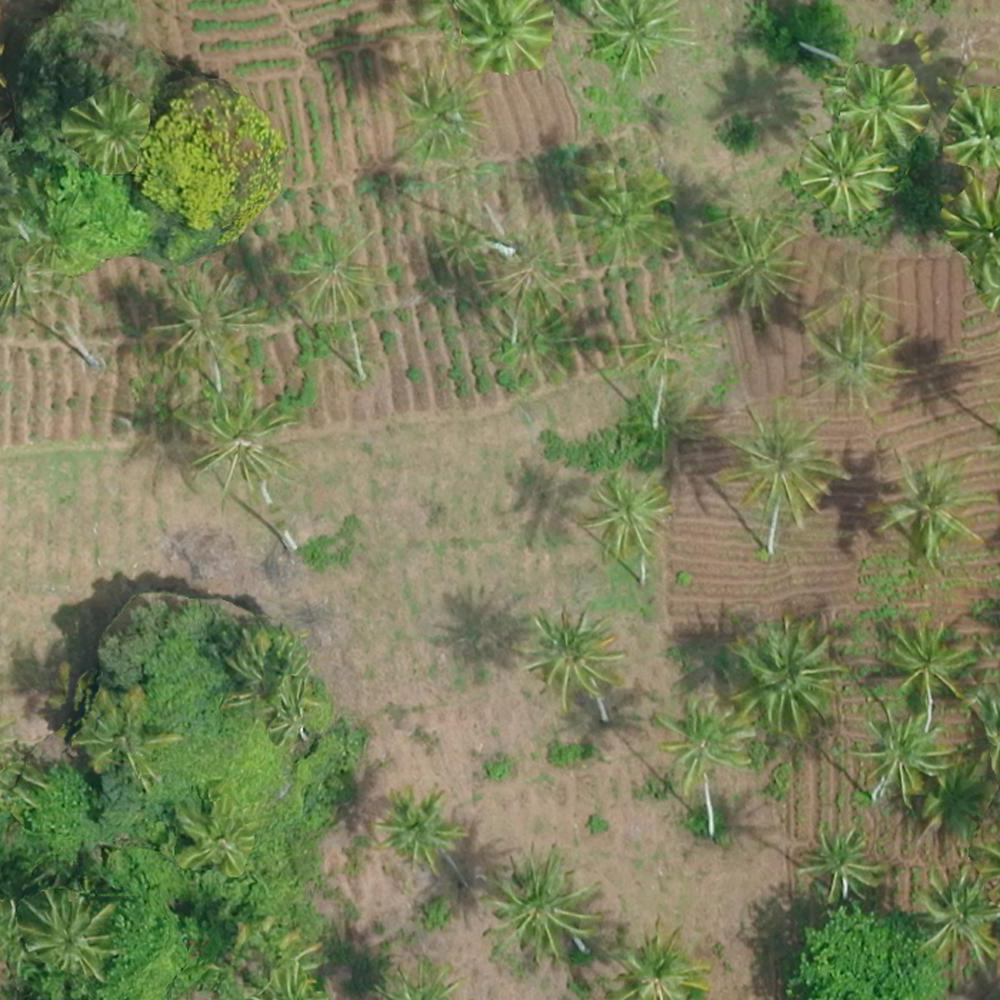Palm: (485, 850, 591, 962), (730, 616, 836, 728), (875, 452, 983, 560), (728, 407, 827, 513), (16, 882, 115, 979), (525, 606, 627, 694), (193, 396, 288, 490), (913, 868, 1000, 968), (700, 218, 797, 307), (657, 697, 754, 783), (858, 712, 953, 797), (884, 613, 971, 700), (795, 134, 887, 215), (78, 695, 163, 782), (580, 476, 671, 557), (796, 819, 885, 900), (837, 67, 927, 147), (590, 1, 685, 75), (456, 1, 555, 72), (613, 928, 709, 1000), (378, 786, 460, 867), (69, 89, 151, 167), (176, 800, 248, 878)
